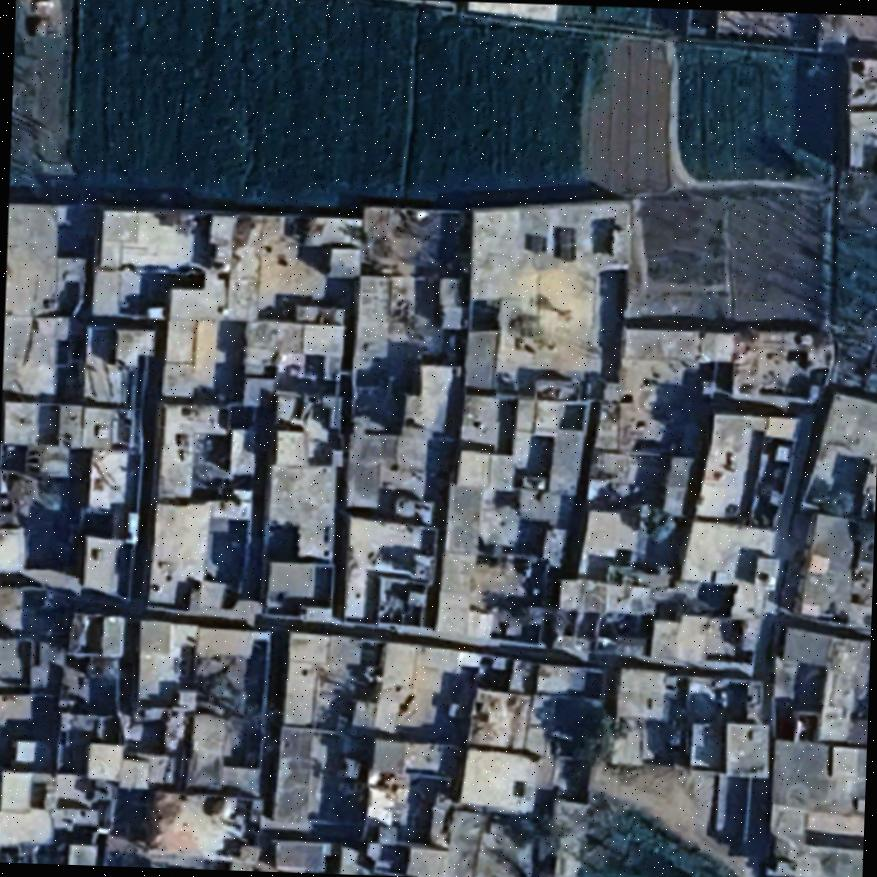Solarpanel: (553, 222, 580, 263), (529, 234, 546, 253)
